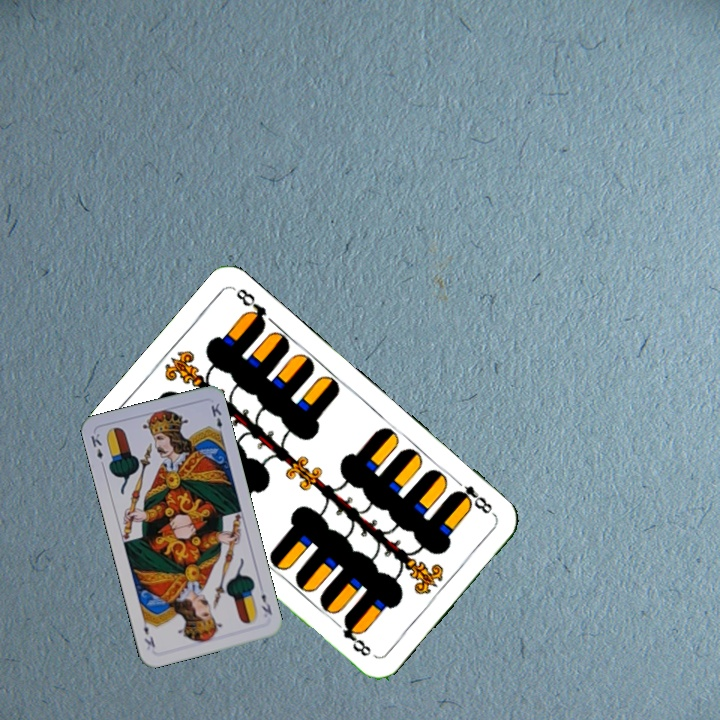E8: (449, 474, 498, 518)
EK: (87, 429, 107, 470), (257, 589, 275, 617)
